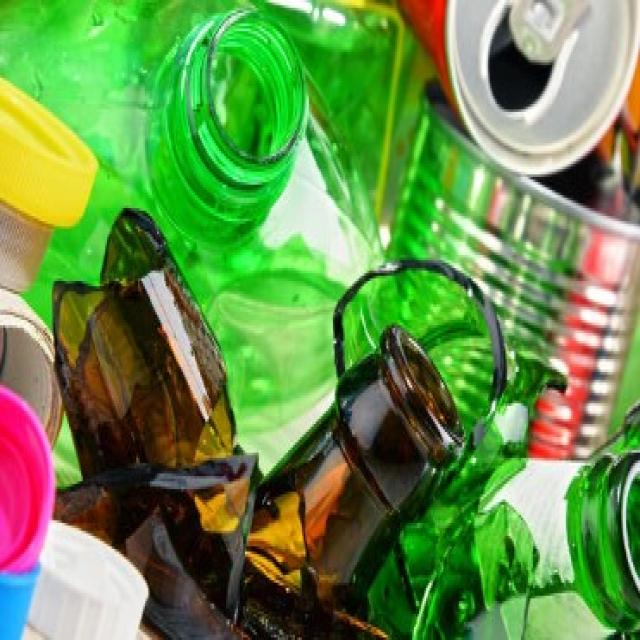electronic: (51, 201, 558, 640)
